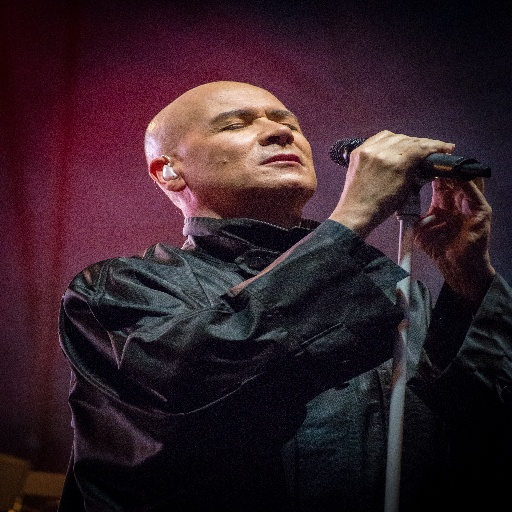hand: (320, 124, 463, 239), (407, 178, 497, 275)
